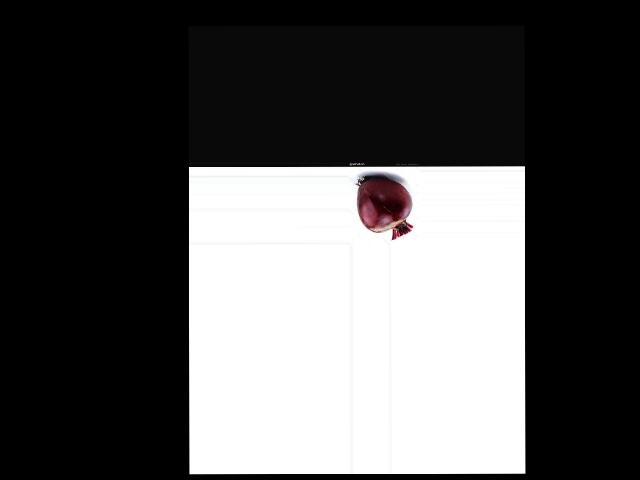beet: (357, 177, 413, 239)
